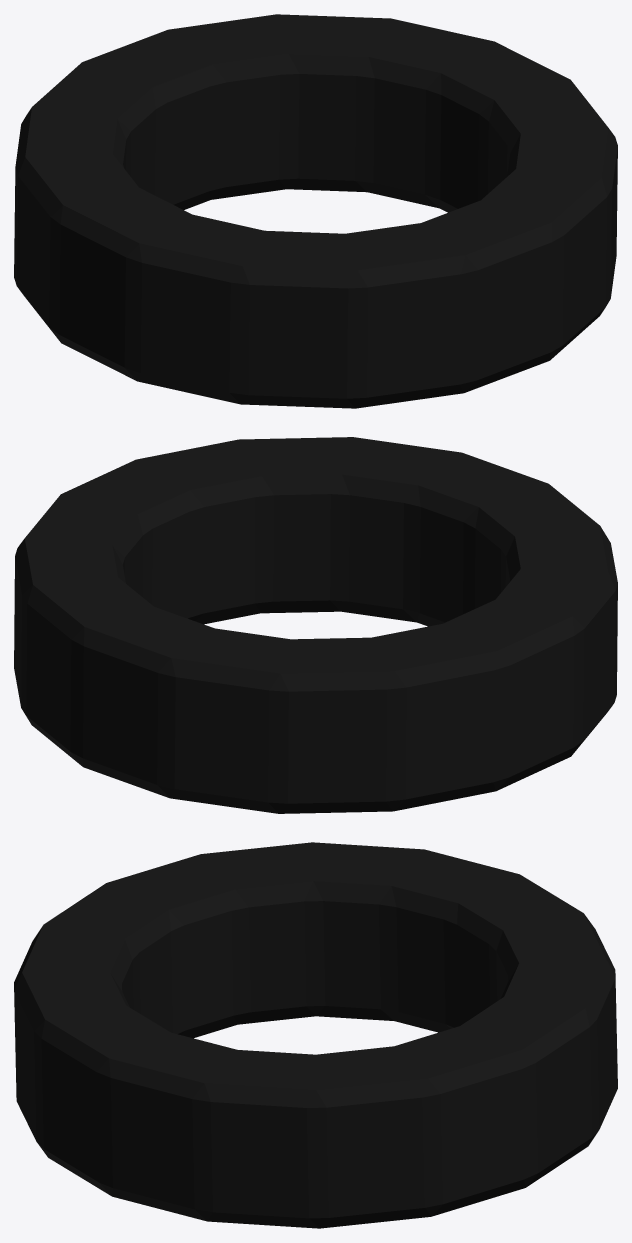
Rendered from Tire.fbx.
3 renders of one model, top to bottom at view 1: azimuth 30°, elevation 25°; view 2: azimuth 150°, elevation 25°; view 3: azimuth 270°, elevation 25°, orthographic.
Visible parts, largest first — view 1: Tire; view 2: Tire; view 3: Tire.
Boxes of the visible parts, left/top/right/bottom form: Tire: left=14, top=14, right=617, bottom=408; Tire: left=14, top=437, right=617, bottom=813; Tire: left=14, top=842, right=617, bottom=1228.
Bounding box in the file's own units: 96.52 × 96.86 × 26.37.
